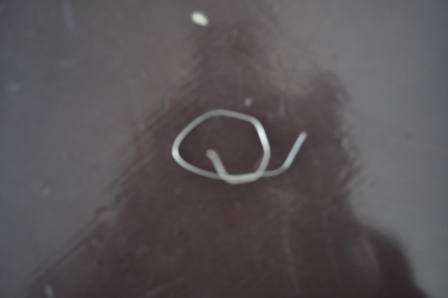METAL WIRE: (169, 108, 310, 185)
